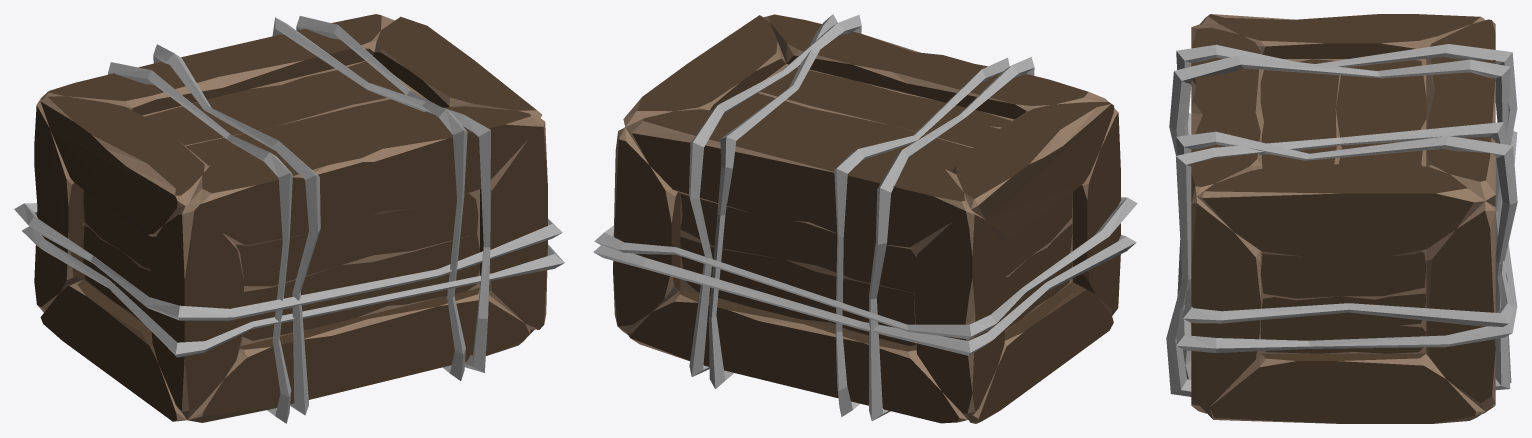
The model's file is Wooden_box_A_01.FBX.
3 views of the same model, side by side, from view 1: azimuth 30°, elevation 25°; view 2: azimuth 150°, elevation 25°; view 3: azimuth 270°, elevation 25° (orthographic). The views are drawn at different scales.
Visible parts, largest first — view 1: Wooden_box_A_01; view 2: Wooden_box_A_01; view 3: Wooden_box_A_01.
Boxes of the visible parts, x1=… form: Wooden_box_A_01: x1=14, y1=14, x2=564, y2=423; Wooden_box_A_01: x1=593, y1=14, x2=1137, y2=423; Wooden_box_A_01: x1=1166, y1=14, x2=1517, y2=423.
Bounding box in the file's own units: 3.07 × 1.97 × 2.34.
